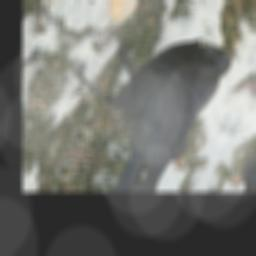Crow: (39, 8, 239, 184)
